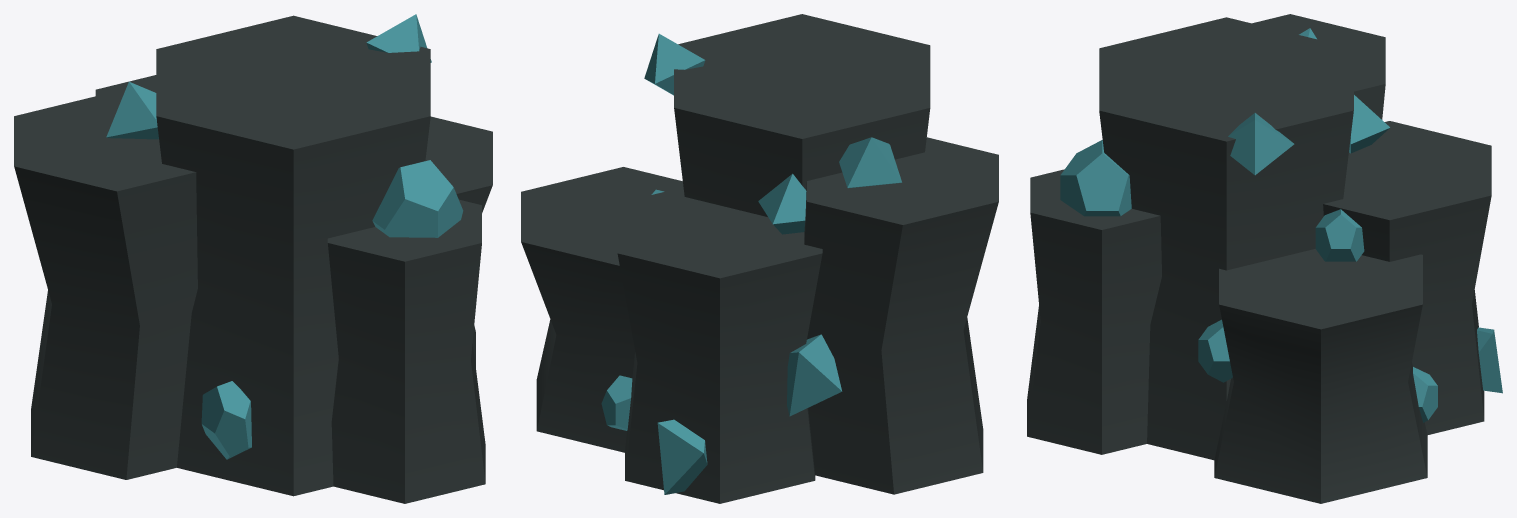
The model's file is Ore03.fbx.
3 views of the same model, side by side, from view 1: azimuth 30°, elevation 25°; view 2: azimuth 150°, elevation 25°; view 3: azimuth 270°, elevation 25° (orthographic). The views are drawn at different scales.
Parts seen in each view (by area): view 1: pPlatonic3; view 2: pPlatonic3; view 3: pPlatonic3.
Part boxes in pixels (x1,y1,x2,y2): pPlatonic3: (14,14,492,503); pPlatonic3: (521,14,998,503); pPlatonic3: (1027,14,1502,503).
Size of the model in its own units: 2.11 by 1.5 by 1.89.
